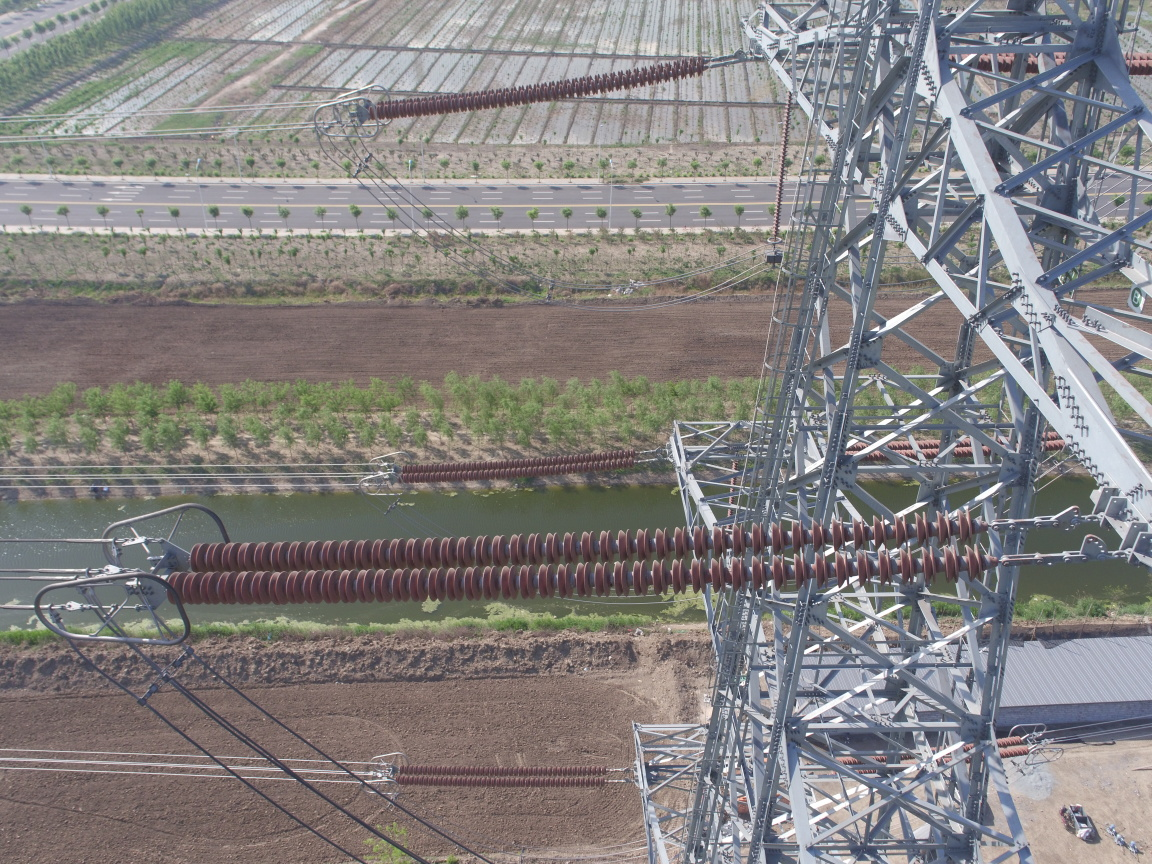insulator: (157, 508, 1040, 607), (363, 52, 722, 125), (391, 445, 653, 483), (393, 762, 622, 788)
